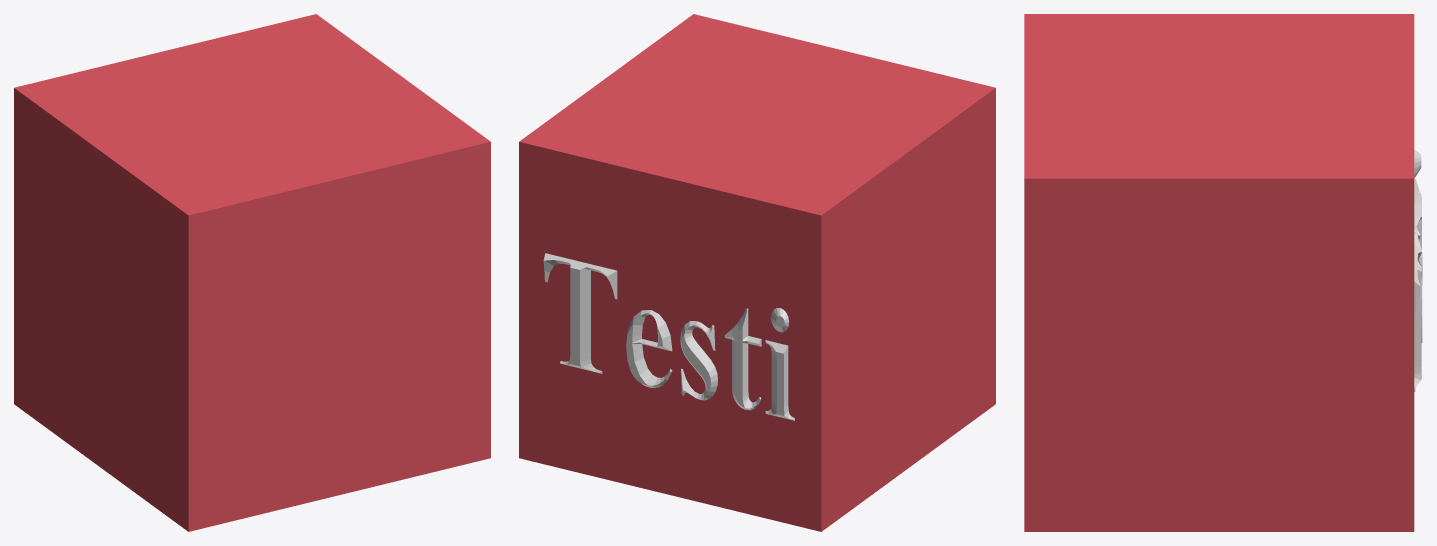
The model's file is testi.gltf.
3 renders of one model, left to right at view 1: azimuth 30°, elevation 25°; view 2: azimuth 150°, elevation 25°; view 3: azimuth 270°, elevation 25°, orthographic. The views are drawn at different scales.
Bounding box in the file's own units: 0.1 × 0.1 × 0.1021.
